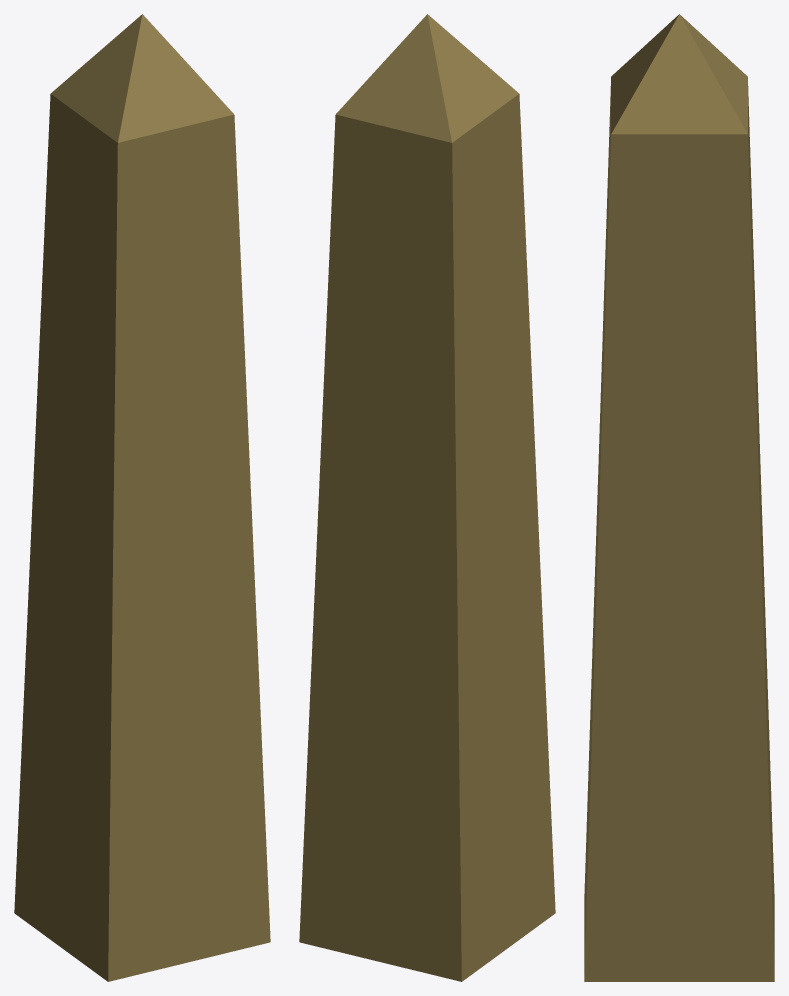
File: obelisk.glb
3 renders of one model, left to right at view 1: azimuth 30°, elevation 25°; view 2: azimuth 150°, elevation 25°; view 3: azimuth 270°, elevation 25°, orthographic.
Visible parts, largest first — view 1: Cube; view 2: Cube; view 3: Cube.
Boxes of the visible parts, x1,y1,x2,y2 form: Cube: (14,14,270,981); Cube: (299,14,555,981); Cube: (584,14,774,981).
Size of the model in its own units: 2 by 10.75 by 2.
